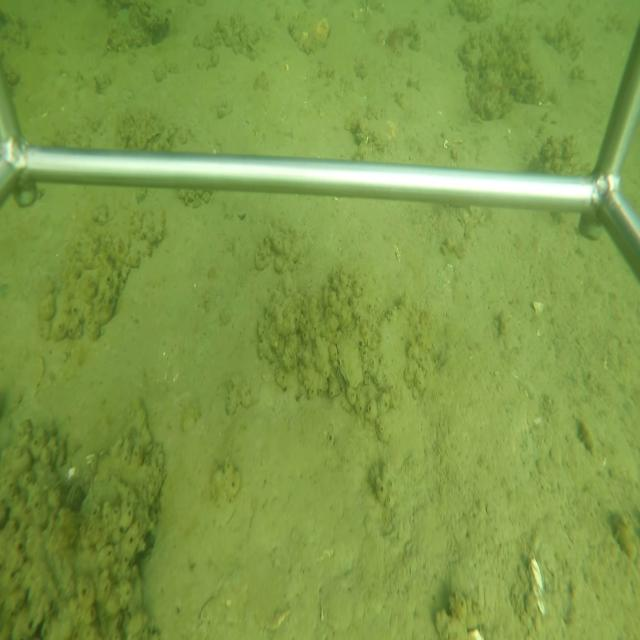Oyster-Closed: (335, 329, 366, 393)
